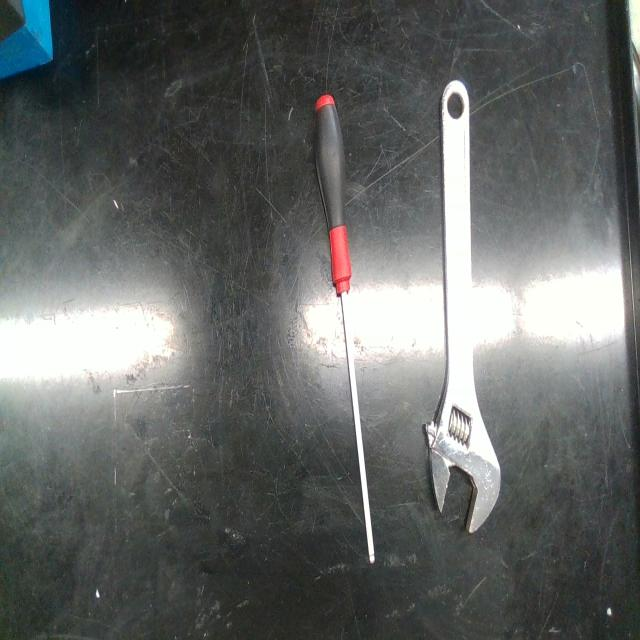Screwdriver: (315, 93, 375, 563)
